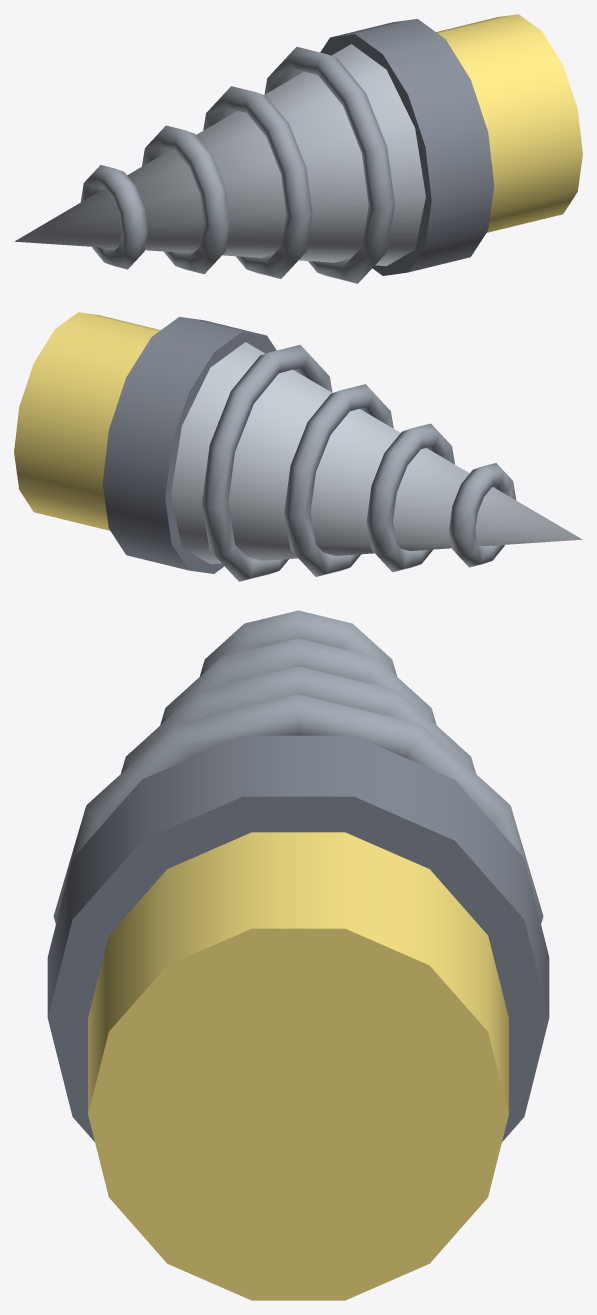
Rendered from Drill.fbx.
3 renders of one model, top to bottom at view 1: azimuth 30°, elevation 25°; view 2: azimuth 150°, elevation 25°; view 3: azimuth 270°, elevation 25°, orthographic. The views are drawn at different scales.
Visible parts, largest first — view 1: drill; view 2: drill; view 3: drill.
Boxes of the visible parts, x1=… form: drill: x1=14, y1=14, x2=582, y2=283; drill: x1=14, y1=312, x2=582, y2=581; drill: x1=47, y1=610, x2=549, y2=1300.
Bounding box in the file's own units: 0.68 × 0.2794 × 0.286.
